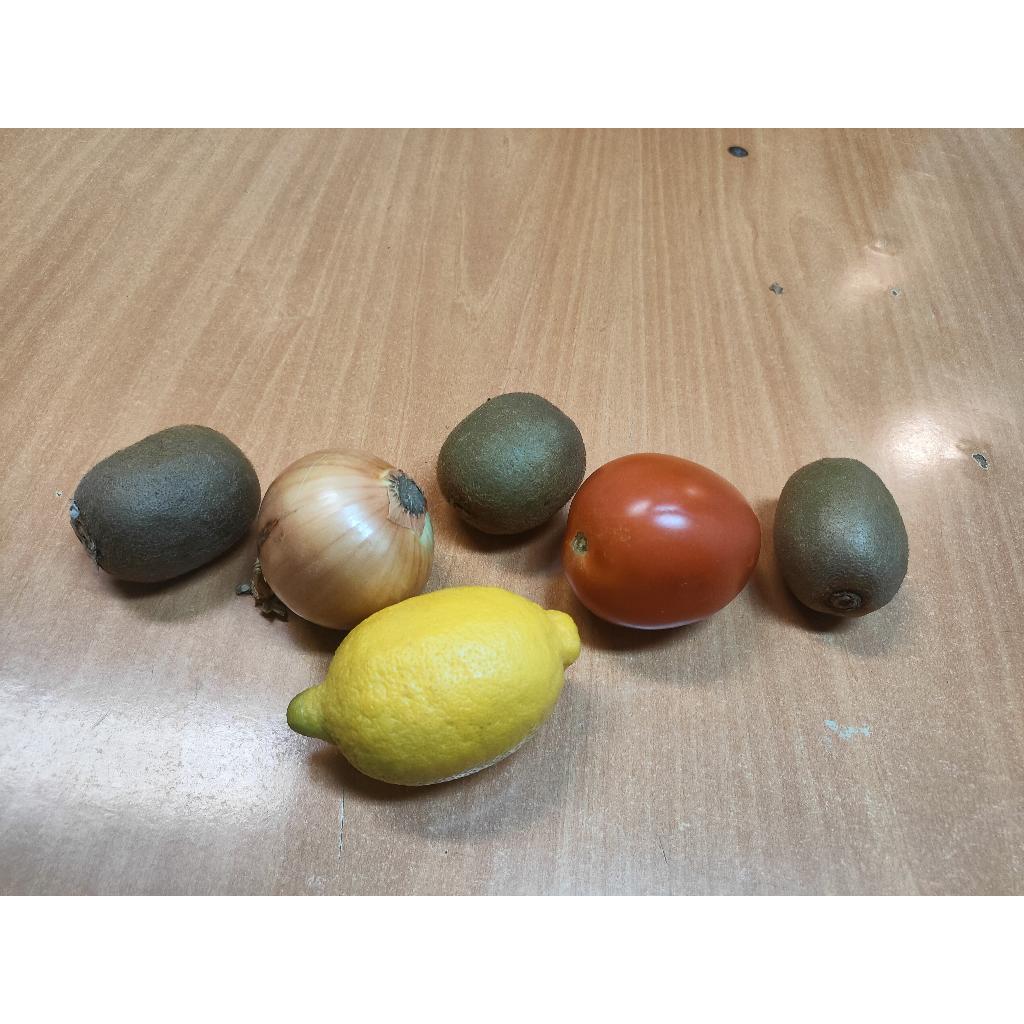tomato: (562, 454, 760, 630)
